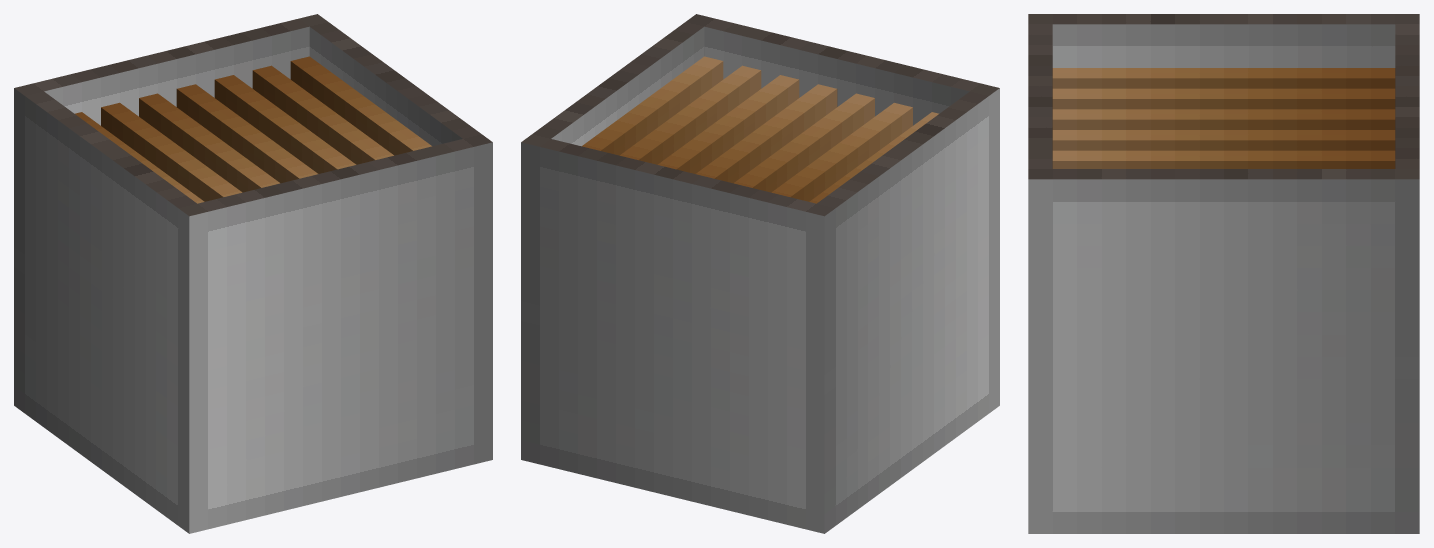
File: electroplater.obj
3 views of the same model, side by side, from view 1: azimuth 30°, elevation 25°; view 2: azimuth 150°, elevation 25°; view 3: azimuth 270°, elevation 25° (orthographic). The views are drawn at different scales.
Visible parts, largest first — view 1: Cube; view 2: Cube; view 3: Cube.
Boxes of the visible parts, x1=… form: Cube: x1=14, y1=14, x2=492, y2=533; Cube: x1=521, y1=14, x2=999, y2=533; Cube: x1=1028, y1=14, x2=1419, y2=533.
Bounding box in the file's own units: 1 × 1 × 1.
